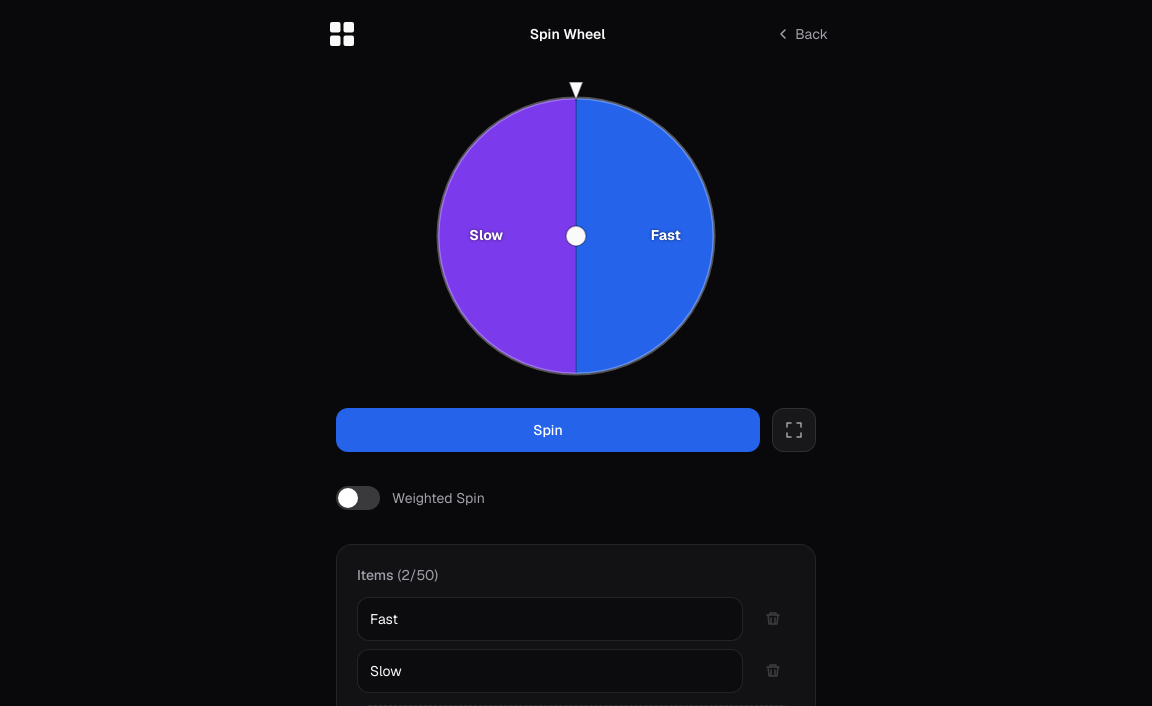
SpinWheelTool › reduced motion: result shown immediately without animation › shows result immediately when reduced motion is enabled
The image size is (1152, 706).
Click the button with aria-label "spin the wheel" at point(548, 430), box [336,408,760,452]
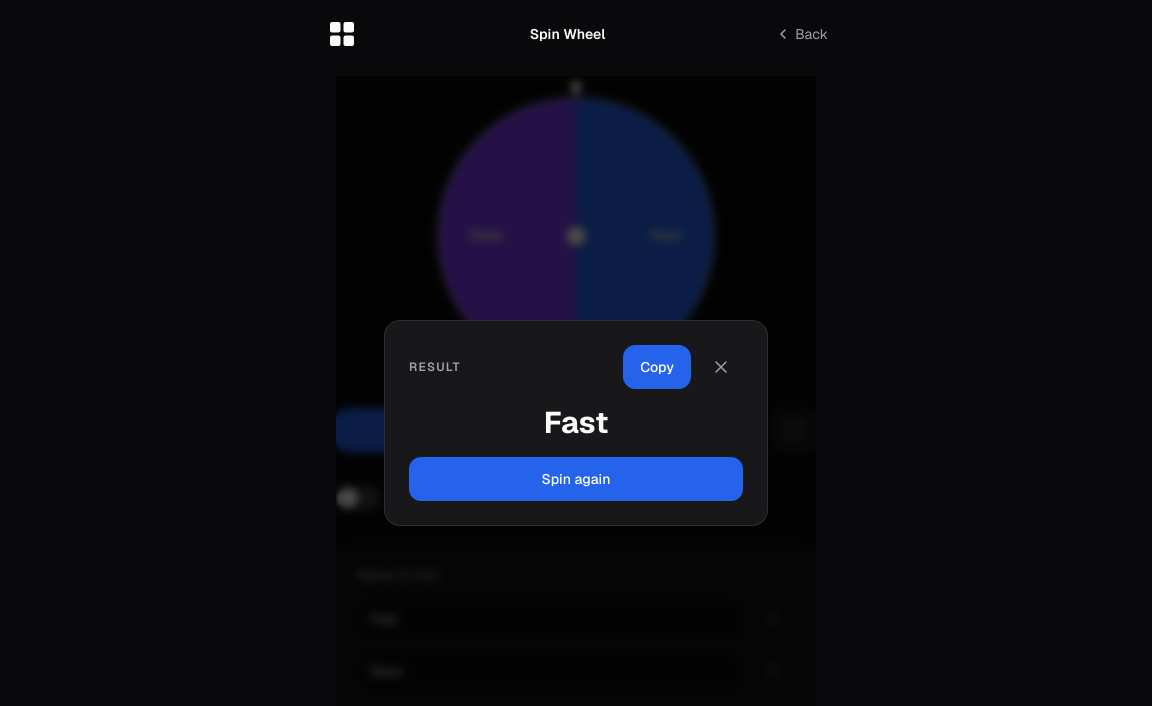
Check: the text "Fast" is shown, box [544,403,608,442]
